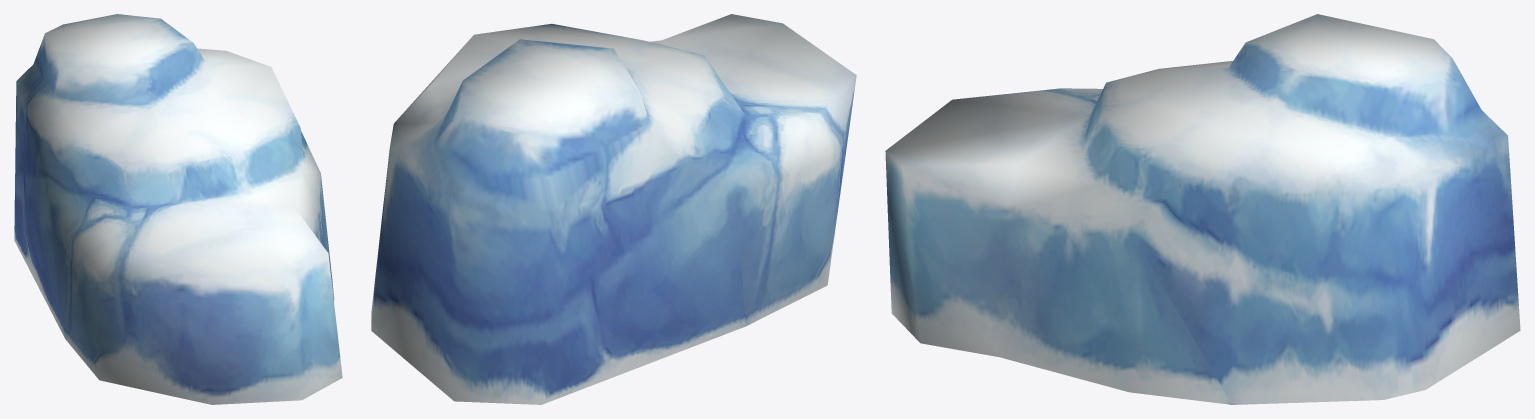
Rendered from SM_stoneD_05.fbx.
The picture shows the model from 3 angles, left to right: view 1: azimuth 30°, elevation 25°; view 2: azimuth 150°, elevation 25°; view 3: azimuth 270°, elevation 25°; orthographic projection. The views are drawn at different scales.
Parts seen in each view (by area): view 1: SM_stoneD_05; view 2: SM_stoneD_05; view 3: SM_stoneD_05.
Part boxes in pixels (box(x1,y1,x2,y2)): SM_stoneD_05: box(14, 14, 342, 404); SM_stoneD_05: box(371, 14, 856, 404); SM_stoneD_05: box(885, 14, 1520, 404).
Bounding box in the file's own units: 2.05 × 1.63 × 3.35.
